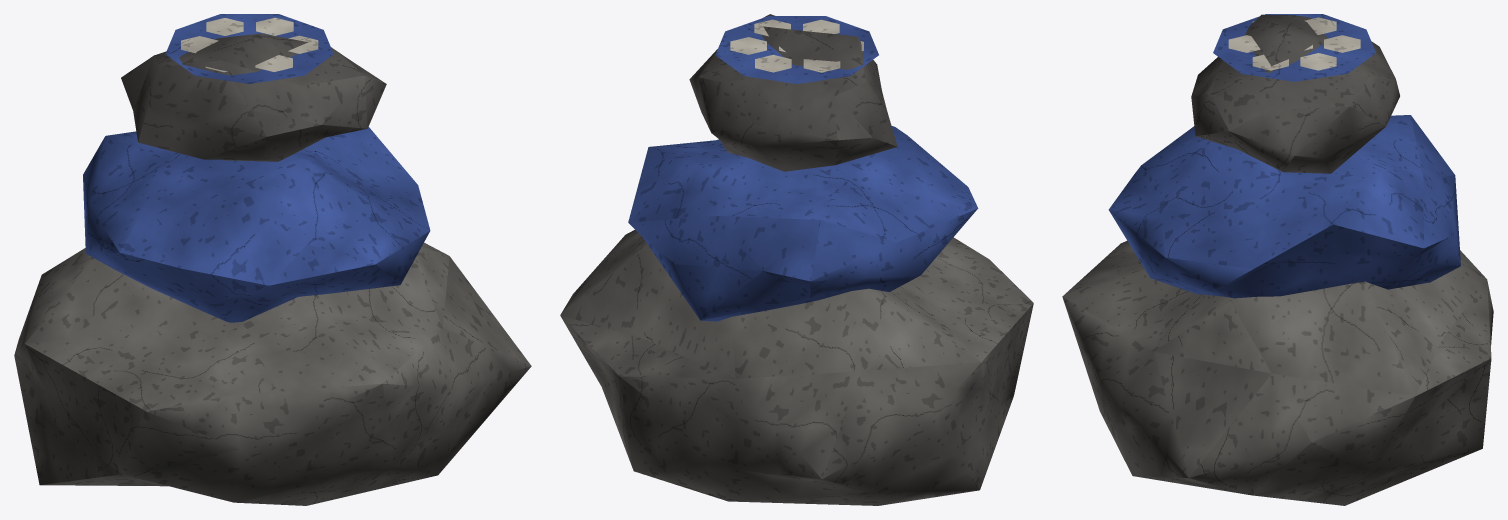
Rendered from marker_nuee.glb.
3 views of the same model, side by side, from view 1: azimuth 30°, elevation 25°; view 2: azimuth 150°, elevation 25°; view 3: azimuth 270°, elevation 25° (orthographic). The views are drawn at different scales.
Parts seen in each view (by area): view 1: pebble_0, pebble_2, pebble_4, marker_nuee, group_7; view 2: pebble_0, pebble_2, pebble_4, marker_nuee, group_7; view 3: pebble_0, pebble_2, pebble_4, marker_nuee, group_7.
Part boxes in pixels (x1,y1,x2,y2): pebble_0: (14,242,531,505); pebble_2: (83,127,430,322); pebble_4: (121,33,386,161); marker_nuee: (165,14,333,83); group_7: (181,17,318,72); pebble_0: (560,230,1033,505); pebble_2: (628,126,978,321); pebble_4: (689,14,897,171); marker_nuee: (715,16,878,84); group_7: (730,19,863,72); pebble_0: (1062,241,1493,505); pebble_2: (1108,115,1460,298); pebble_4: (1191,14,1399,173); marker_nuee: (1213,14,1375,81); group_7: (1228,17,1360,70).
Size of the model in its own units: 7.63 by 7.49 by 6.76.
Materials: 5 (5 with a texture image).
